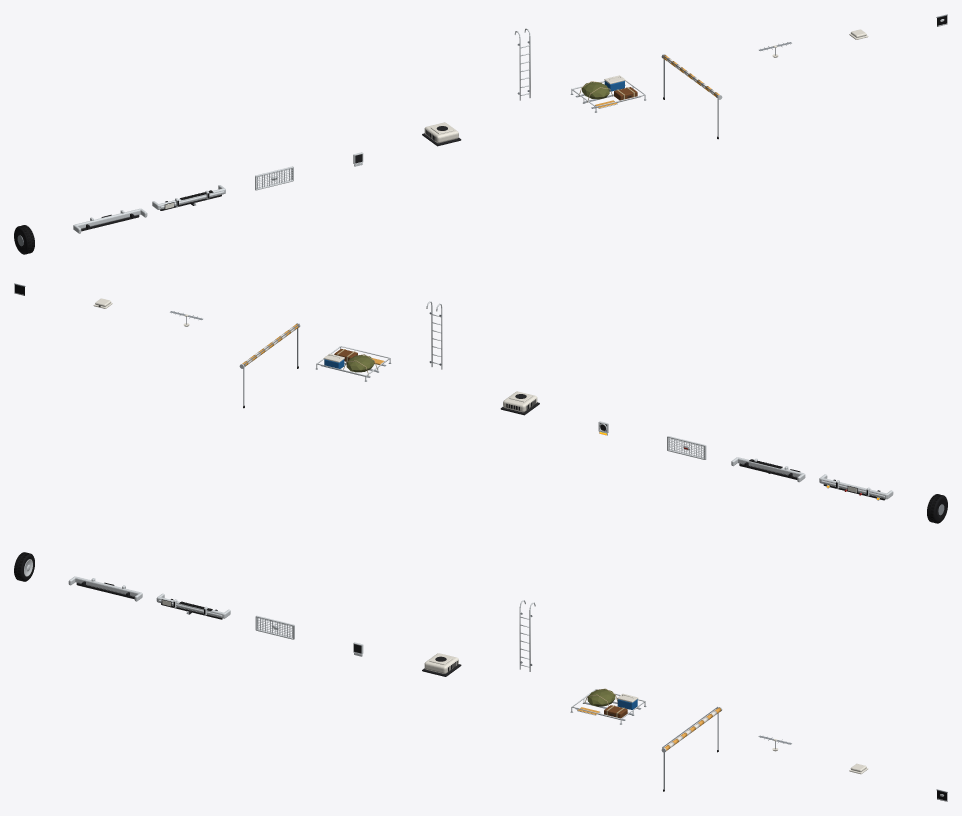
The model's file is rvkit.glb.
3 renders of one model, top to bottom at view 1: azimuth 30°, elevation 25°; view 2: azimuth 150°, elevation 25°; view 3: azimuth 330°, elevation 25°, orthographic.
Visible parts, largest first — view 1: roofrack, bumper_front, bumper_rear, ac, grille; view 2: roofrack, bumper_rear, bumper_front, ac, grille; view 3: roofrack, bumper_front, bumper_rear, ac, grille, awning.
Boxes of the visible parts, x1,y1,x2,y2 form: roofrack: [570, 75, 646, 112]; bumper_front: [73, 208, 147, 233]; bumper_rear: [152, 185, 225, 210]; ac: [422, 122, 461, 146]; grille: [255, 166, 293, 190]; roofrack: [315, 346, 391, 381]; bumper_rear: [731, 457, 805, 482]; bumper_front: [819, 474, 893, 500]; ac: [500, 391, 539, 415]; grille: [667, 436, 706, 459]; roofrack: [570, 688, 646, 724]; bumper_front: [68, 576, 142, 601]; bumper_rear: [156, 593, 230, 619]; ac: [422, 653, 461, 676]; grille: [255, 615, 294, 639]; awning: [661, 706, 722, 791].
Size of the model in its own units: 37.8 by 4.98 by 3.99.
